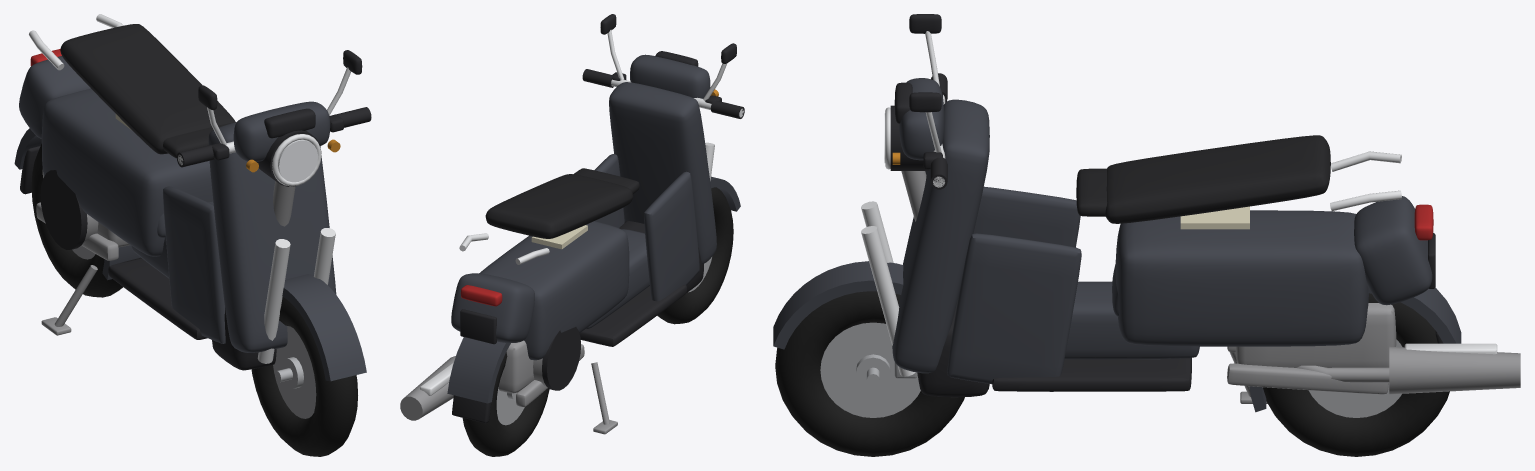
The model's file is DamarScooter.fbx.
3 views of the same model, side by side, from view 1: azimuth 30°, elevation 25°; view 2: azimuth 150°, elevation 25°; view 3: azimuth 270°, elevation 25° (orthographic). The views are drawn at different scales.
Parts seen in each view (by area): view 1: Static__Scooter_MOTO_BodyPaint, Static__Scooter_MOTO_SeatVinyl, Static__Scooter_MOTO_DarkPlastic, Static__Scooter_MOTO_TireRubber, Static__Scooter_MOTO_Chrome, Static__Scooter_MOTO_Engine, Static__Scooter_MOTO_Rim, Static__Scooter_MOTO_HeadlightLens; view 2: Static__Scooter_MOTO_BodyPaint, Static__Scooter_MOTO_DarkPlastic, Static__Scooter_MOTO_SeatVinyl, Static__Scooter_MOTO_TireRubber, Static__Scooter_MOTO_Engine, Static__Scooter_MOTO_Chrome, Static__Scooter_MOTO_Rim, Static__Scooter_MOTO_TailLight, Static__Scooter_SurveyNotebookPaper; view 3: Static__Scooter_MOTO_BodyPaint, Static__Scooter_MOTO_TireRubber, Static__Scooter_MOTO_SeatVinyl, Static__Scooter_MOTO_Engine, Static__Scooter_MOTO_DarkPlastic, Static__Scooter_MOTO_Rim, Static__Scooter_MOTO_Chrome, Static__Scooter_SurveyNotebookPaper.
Boxes of the visible parts, x1=… form: Static__Scooter_MOTO_BodyPaint: x1=14, y1=56, x2=366, y2=381; Static__Scooter_MOTO_SeatVinyl: x1=60, y1=24, x2=235, y2=158; Static__Scooter_MOTO_DarkPlastic: x1=20, y1=50, x2=371, y2=370; Static__Scooter_MOTO_TireRubber: x1=31, y1=144, x2=357, y2=456; Static__Scooter_MOTO_Chrome: x1=29, y1=14, x2=351, y2=363; Static__Scooter_MOTO_Engine: x1=36, y1=170, x2=295, y2=335; Static__Scooter_MOTO_Rim: x1=72, y1=246, x2=316, y2=418; Static__Scooter_MOTO_HeadlightLens: x1=278, y1=139, x2=318, y2=182; Static__Scooter_MOTO_BodyPaint: x1=447, y1=54, x2=740, y2=403; Static__Scooter_MOTO_DarkPlastic: x1=452, y1=14, x2=744, y2=423; Static__Scooter_MOTO_SeatVinyl: x1=485, y1=168, x2=639, y2=238; Static__Scooter_MOTO_TireRubber: x1=462, y1=187, x2=733, y2=456; Static__Scooter_MOTO_Engine: x1=400, y1=340, x2=617, y2=434; Static__Scooter_MOTO_Chrome: x1=420, y1=29, x2=743, y2=395; Static__Scooter_MOTO_Rim: x1=496, y1=257, x2=711, y2=425; Static__Scooter_MOTO_TailLight: x1=460, y1=285, x2=502, y2=306; Static__Scooter_SurveyNotebookPaper: x1=531, y1=225, x2=587, y2=249; Static__Scooter_MOTO_BodyPaint: x1=773, y1=78, x2=1461, y2=412; Static__Scooter_MOTO_TireRubber: x1=775, y1=291, x2=1449, y2=456; Static__Scooter_MOTO_SeatVinyl: x1=1076, y1=135, x2=1330, y2=223; Static__Scooter_MOTO_Engine: x1=901, y1=171, x2=1520, y2=403; Static__Scooter_MOTO_DarkPlastic: x1=890, y1=14, x2=1443, y2=397; Static__Scooter_MOTO_Rim: x1=820, y1=322, x2=1402, y2=417; Static__Scooter_MOTO_Chrome: x1=861, y1=31, x2=1497, y2=376; Static__Scooter_SurveyNotebookPaper: x1=1180, y1=206, x2=1249, y2=229.
Size of the model in its own units: 62 by 115 by 193.
